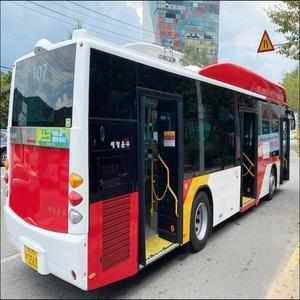07bus: (4, 36, 291, 294)
backdoor: (236, 104, 262, 208)
frontdoor: (275, 112, 293, 183)
